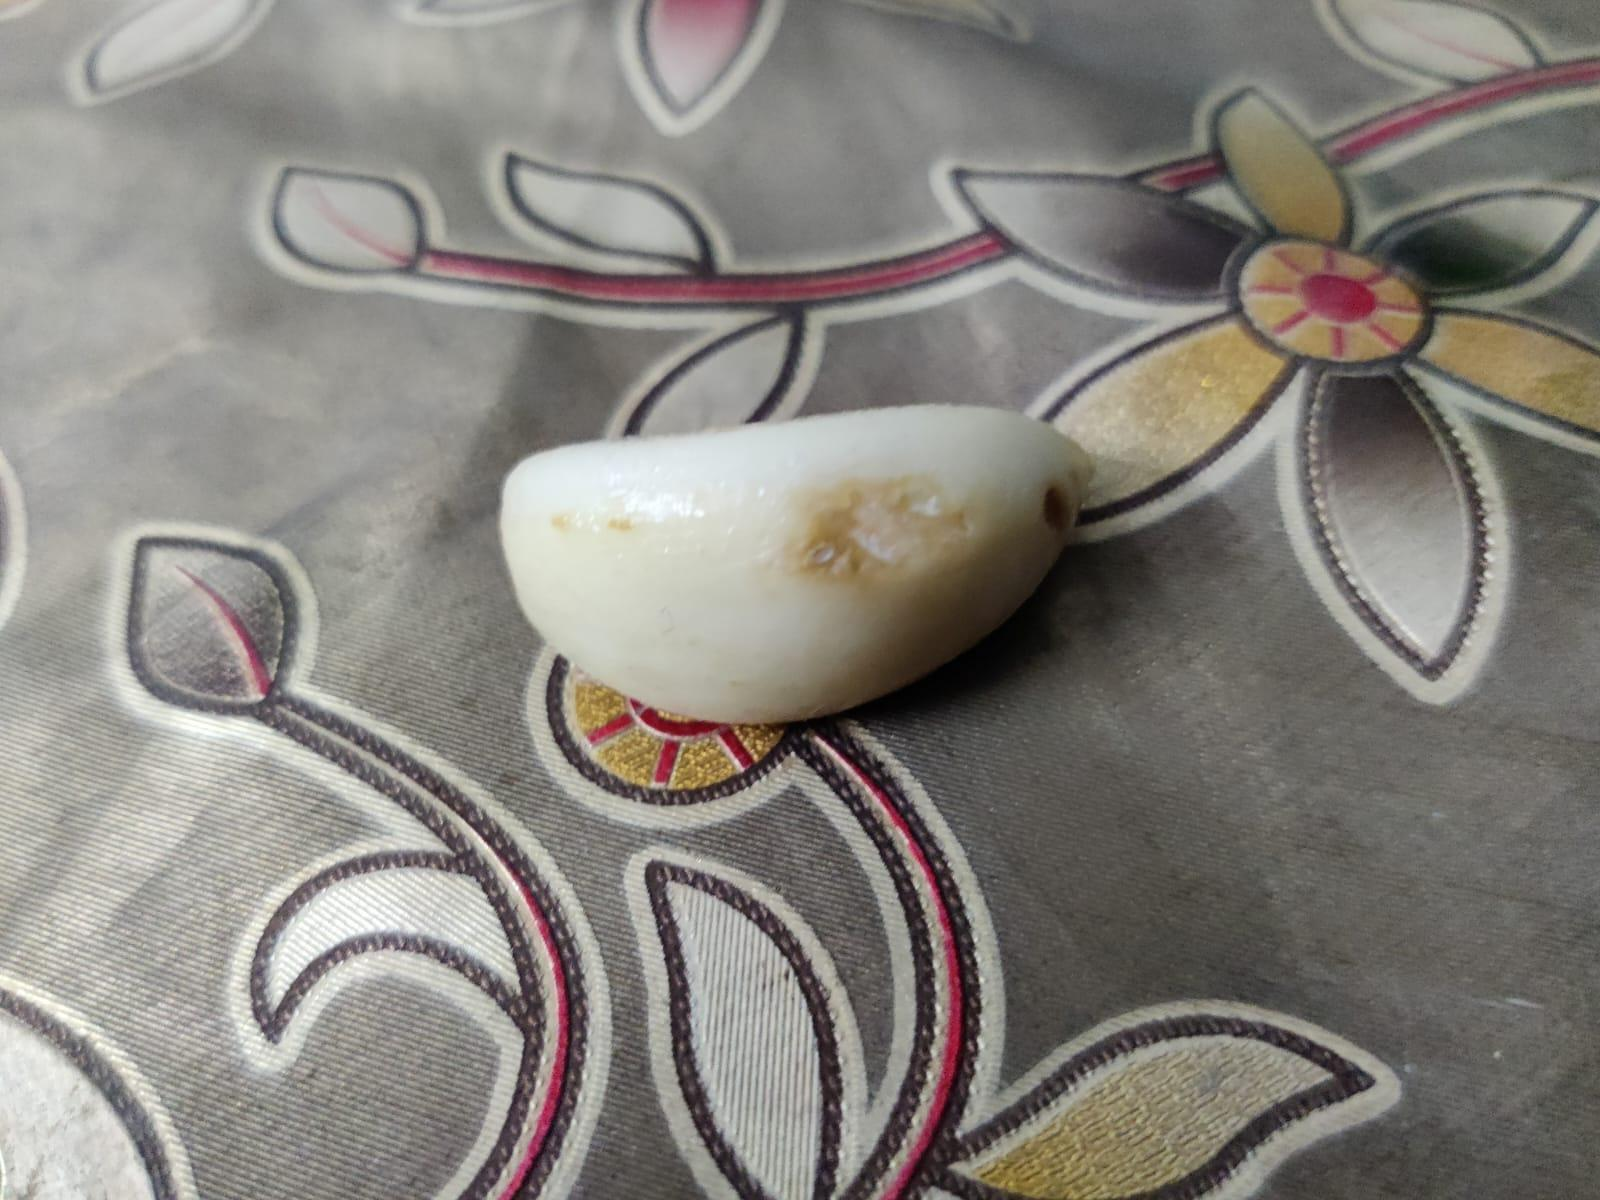non-mango: (496, 405, 1115, 732)
